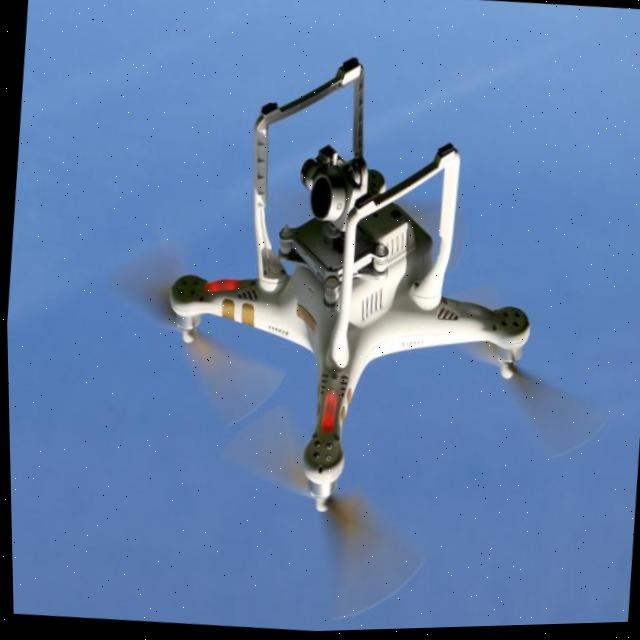drones: (59, 21, 626, 639)
